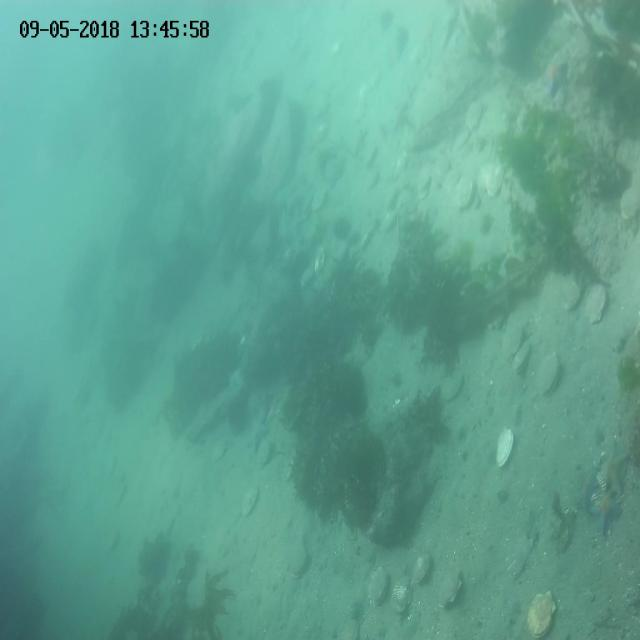scallop: (527, 588, 559, 640), (536, 350, 563, 400), (434, 566, 463, 610), (584, 280, 610, 329), (367, 566, 393, 610), (495, 423, 517, 474), (391, 573, 416, 615), (408, 552, 434, 588), (502, 321, 524, 363), (481, 164, 508, 198), (238, 484, 263, 520), (440, 371, 467, 403), (618, 184, 640, 223), (510, 343, 533, 377), (560, 281, 582, 316), (462, 100, 484, 132), (395, 190, 415, 220), (417, 160, 434, 195), (455, 180, 476, 208), (431, 156, 448, 187), (442, 171, 462, 195), (311, 244, 326, 274), (311, 185, 327, 213), (380, 208, 396, 234), (364, 166, 379, 192), (258, 440, 270, 472), (298, 268, 316, 289), (360, 144, 377, 166), (385, 184, 396, 208)
starfish: (594, 440, 634, 498), (590, 486, 625, 536), (536, 57, 572, 101), (245, 413, 268, 453)
